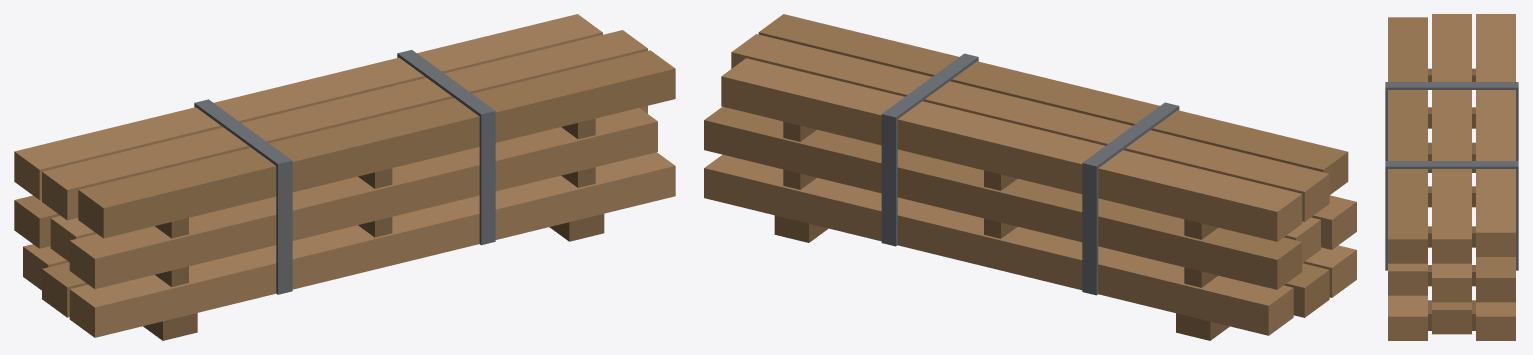
Rendered from plank_stack_01.glb.
3 renders of one model, left to right at view 1: azimuth 30°, elevation 25°; view 2: azimuth 150°, elevation 25°; view 3: azimuth 270°, elevation 25°, orthographic. The views are drawn at different scales.
Parts seen in each view (by area): view 1: PlankStack_01; view 2: PlankStack_01; view 3: PlankStack_01.
Part boxes in pixels (bbox=[...]): PlankStack_01: bbox=[14, 14, 675, 340]; PlankStack_01: bbox=[704, 14, 1356, 340]; PlankStack_01: bbox=[1385, 14, 1518, 340].
Size of the model in its own units: 2 by 0.5 by 0.5.
